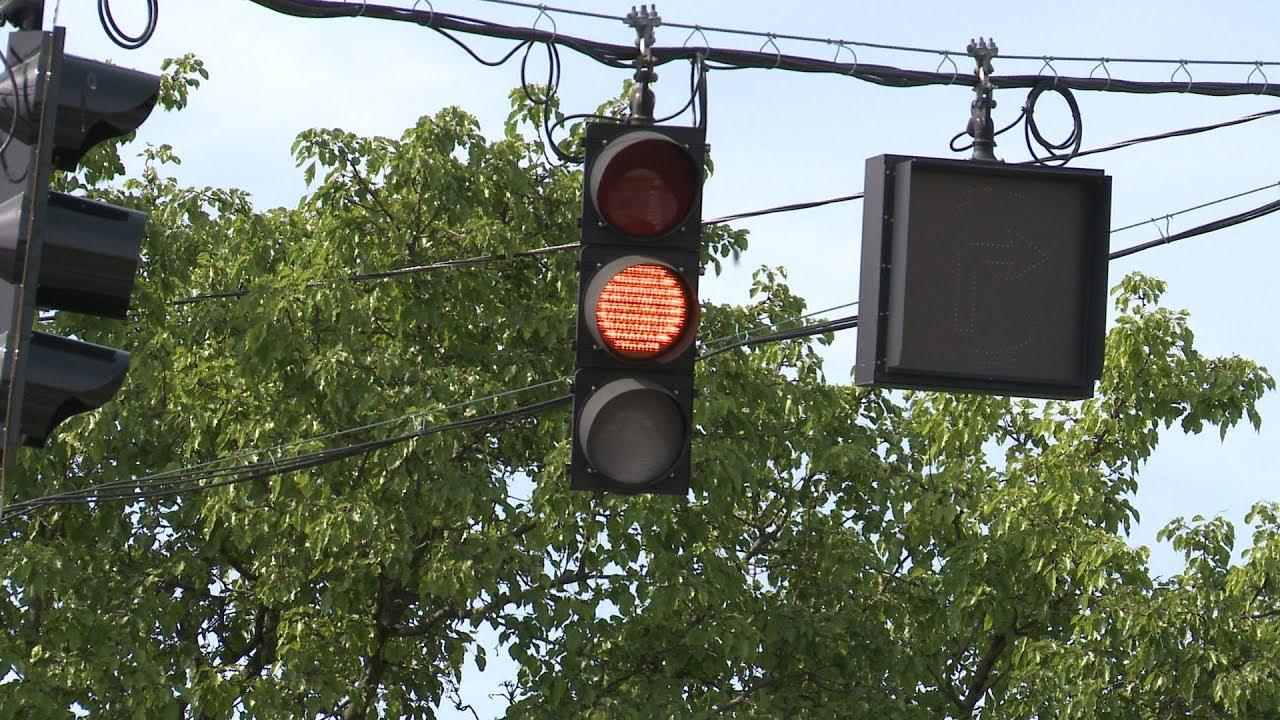yellow_light: (570, 122, 704, 494)
